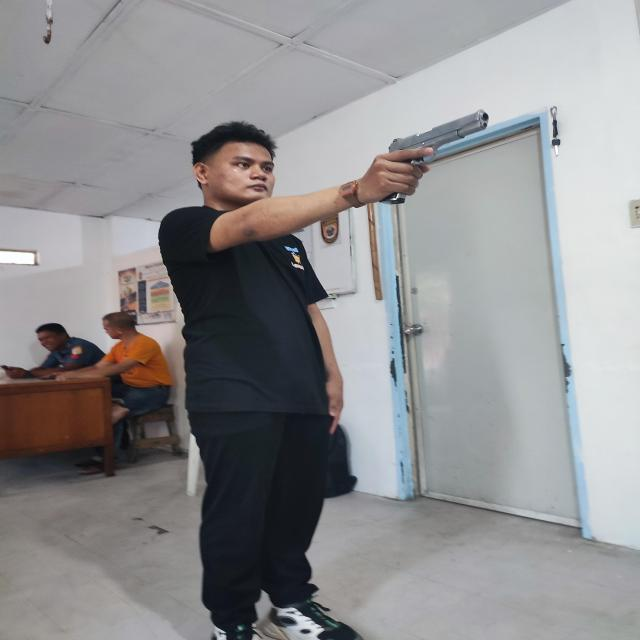pistol: (378, 109, 488, 204)
